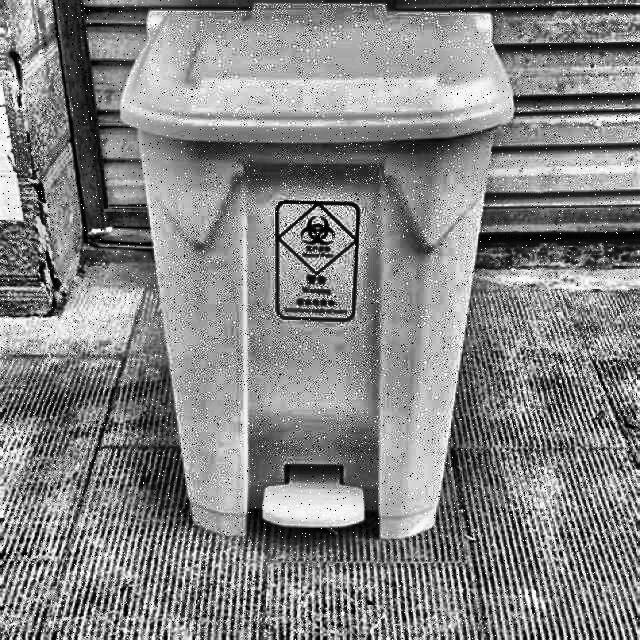Dustbin: (113, 6, 542, 566)
